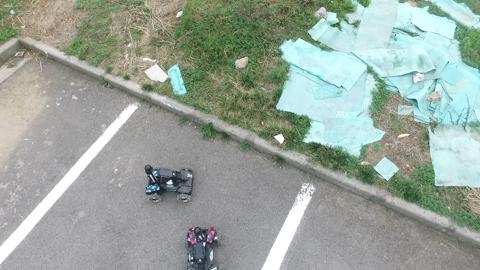chariot: (134, 157, 204, 212), (182, 222, 226, 270)
